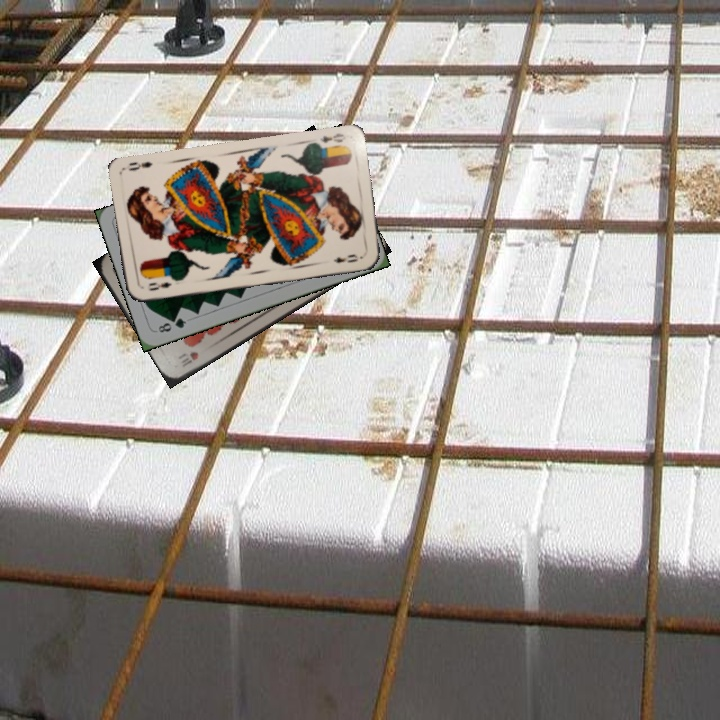EO: (316, 129, 349, 146), (144, 278, 174, 293)
G8: (154, 314, 189, 335)
H10: (176, 347, 201, 370)
